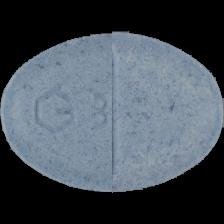16590-236: (0, 0, 224, 224)
